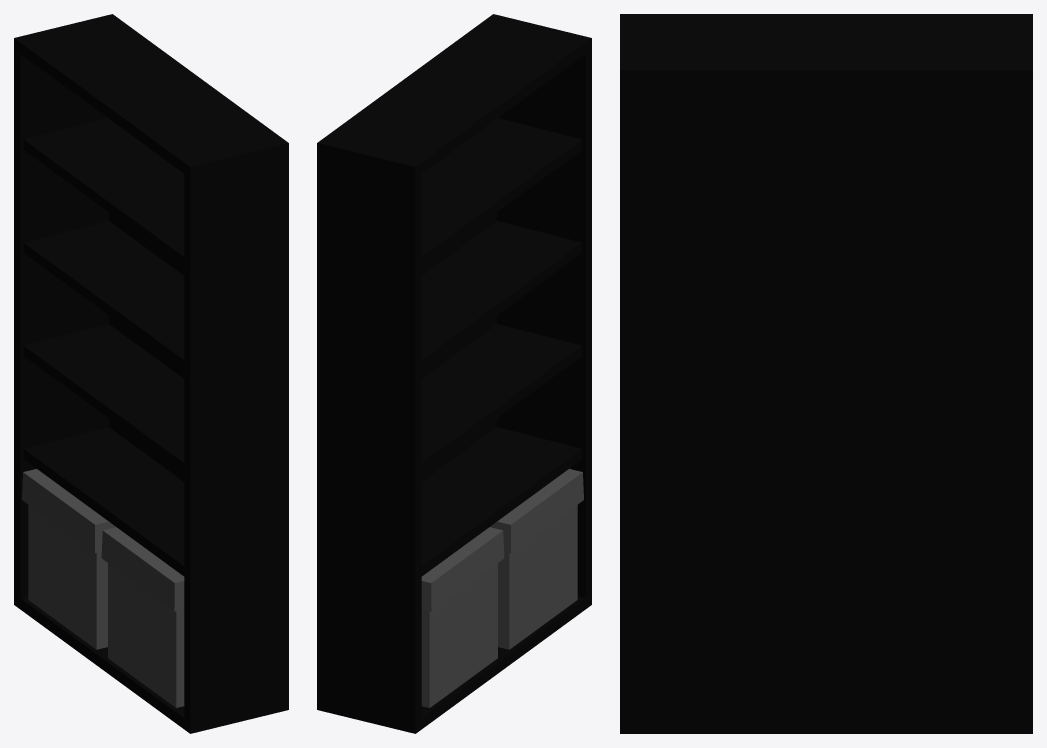
The model's file is furniture_decor_210005.glb.
The picture shows the model from 3 angles, left to right: view 1: azimuth 30°, elevation 25°; view 2: azimuth 150°, elevation 25°; view 3: azimuth 270°, elevation 25°; orthographic projection. The views are drawn at different scales.
Visible parts, largest first — view 1: furniture_decor_210005; view 2: furniture_decor_210005; view 3: furniture_decor_210005.
Part boxes in pixels (x1=…): furniture_decor_210005: x1=14, y1=14, x2=288, y2=733; furniture_decor_210005: x1=317, y1=14, x2=591, y2=733; furniture_decor_210005: x1=620, y1=14, x2=1032, y2=733.
Size of the model in its own units: 0.3124 by 1.65 by 0.93.
1 material, 1 textured.
